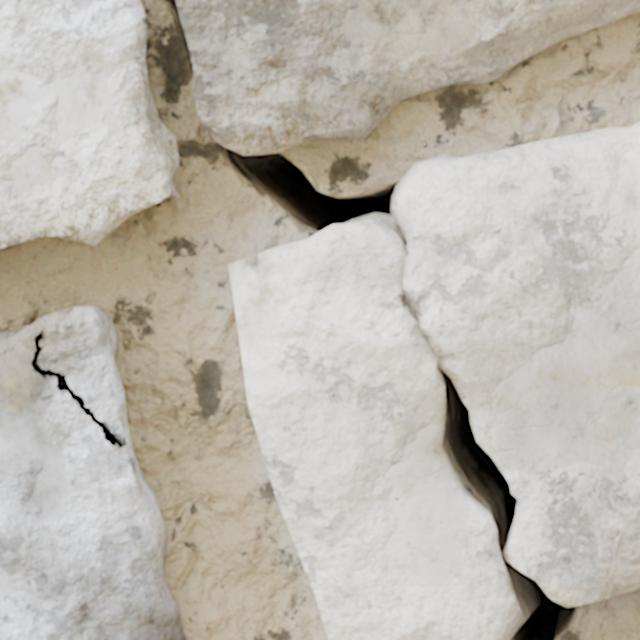broken_brick: (228, 122, 639, 639)
crack: (162, 0, 639, 247), (0, 306, 186, 639), (0, 0, 179, 248), (428, 367, 577, 639)
